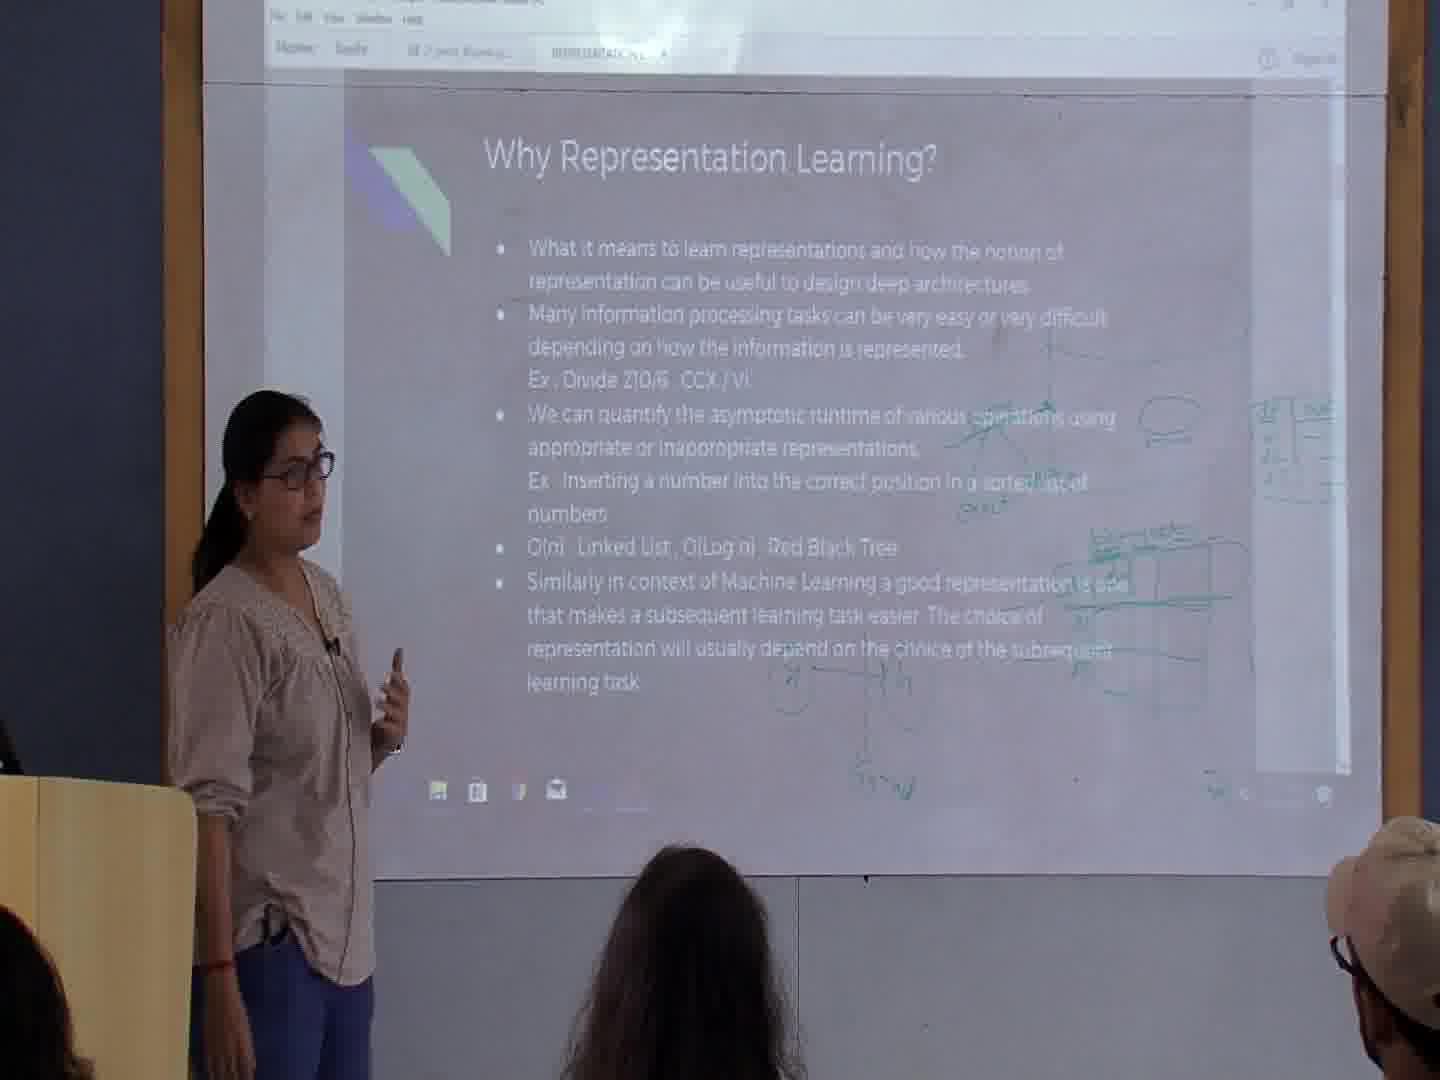slide: (265, 2, 1352, 815)
